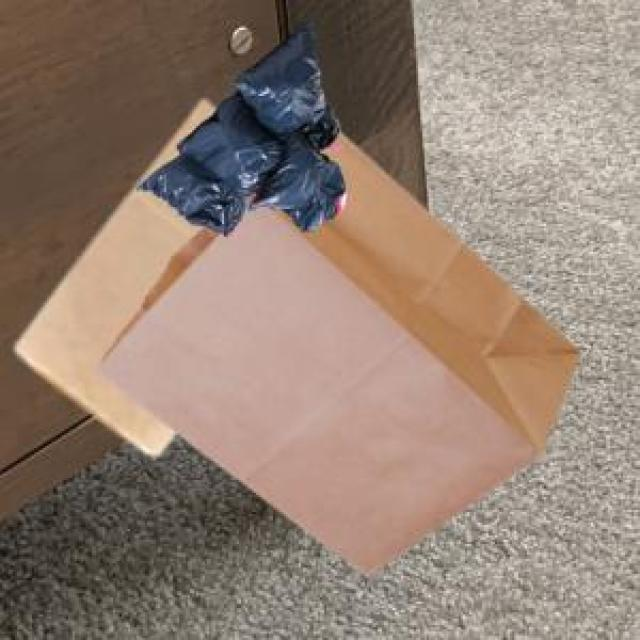miscellaneous trash: (134, 17, 341, 233)
paper: (92, 128, 576, 572), (13, 98, 211, 450)
